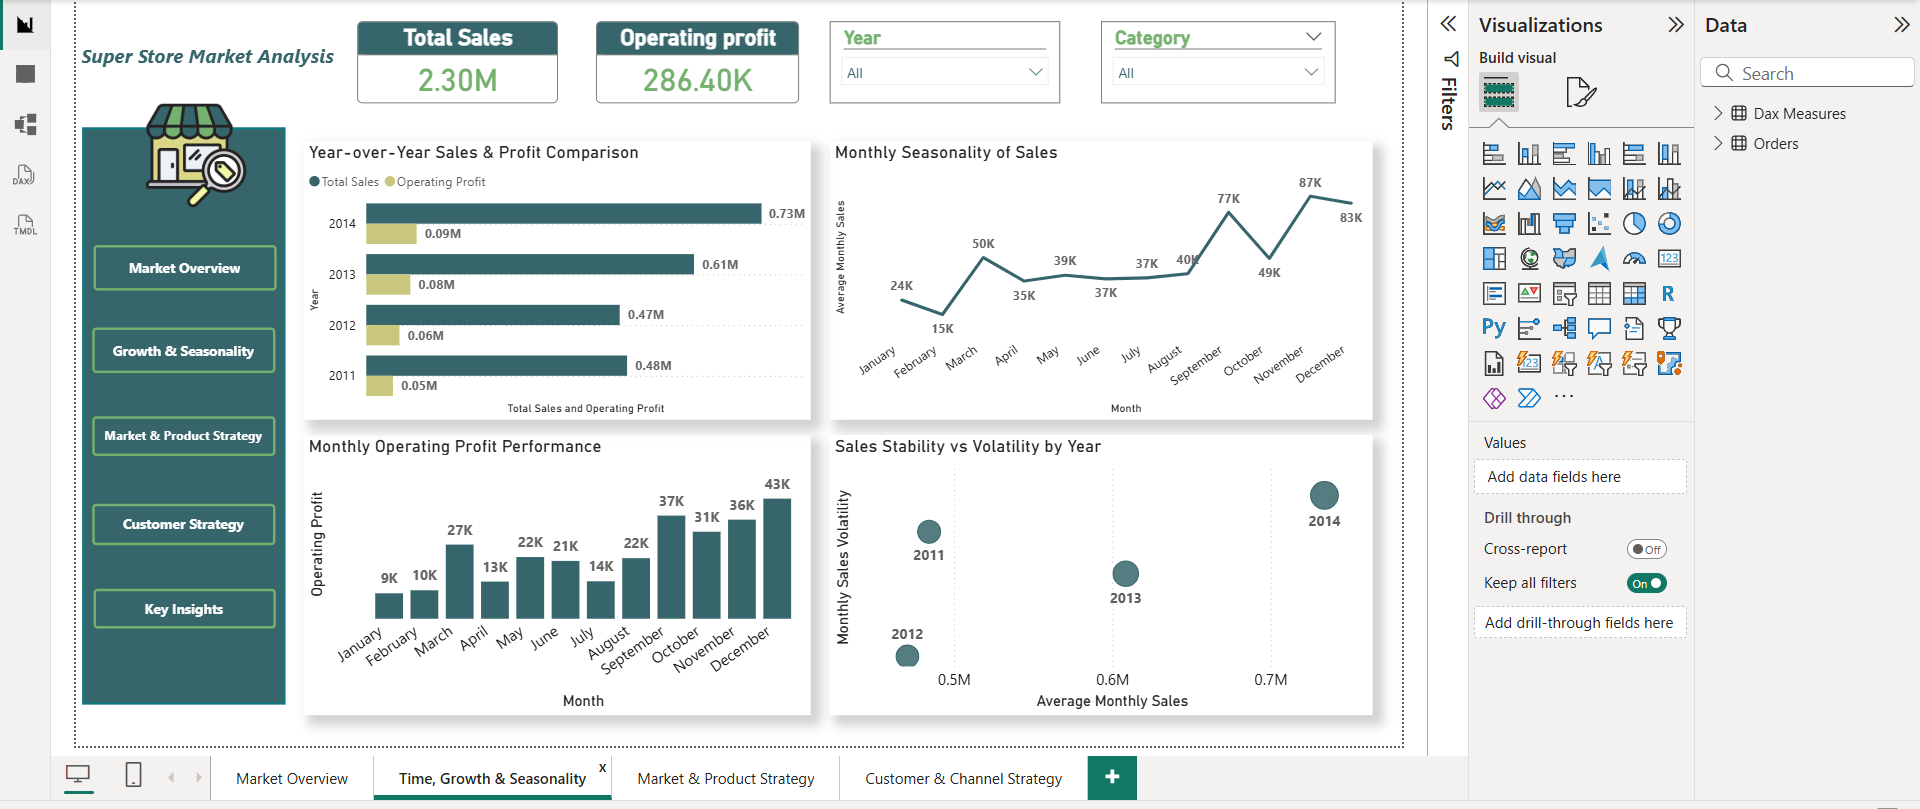

The page's visual inventory and layout, read from the dashboard file:
{"tool":"powerbi","page":{"name":"Time, Growth & Seasonality","canvas":[1280,720],"ordinal":1},"visuals":[{"type":"lineChart","title":"Monthly Seasonality of Sales","fields":{"Category":["Orders.Order Date.Variation.Date Hierarchy.Month"],"Y":["Dax Measures.Average Monthly Sales"]},"box":[727.3,135.8,524.2,269],"z":0},{"type":"clusteredColumnChart","title":"Monthly Operating Profit Performance","fields":{"Category":["Orders.Order Date.Variation.Date Hierarchy.Month"],"Y":["Dax Measures.Operating Profit"]},"box":[219.6,419.9,489.9,270.3],"z":1000},{"type":"clusteredBarChart","title":"Year-over-Year Sales & Profit Comparison","fields":{"Category":["Orders.Order Date.Variation.Date Hierarchy.Year"],"Y":["Dax Measures.Total Sales","Dax Measures.Operating Profit"]},"box":[219.6,135.8,489.9,269],"z":2000},{"type":"scatterChart","title":"Sales Stability vs Volatility by Year","fields":{"Category":["Orders.Order Date.Variation.Date Hierarchy.Year"],"Y":["Dax Measures.Monthly Sales Volatility"],"X":["Dax Measures.Average Monthly Sales"],"Size":["Dax Measures.Total Sales"]},"box":[727.3,419.9,524.2,270.3],"z":3000},{"type":"textbox","box":[0,35.7,256.6,49.4],"z":4000},{"type":"card","title":"Total Sales","fields":{"Values":["Dax Measures.Total Sales"]},"box":[271.7,20.6,193.5,79.6],"z":5000},{"type":"card","title":"Operating profit","fields":{"Values":["Dax Measures.Operating Profit"]},"box":[502.2,20.6,196.2,79.6],"z":6000},{"type":"slicer","fields":{"Values":["Orders.Order Date.Variation.Date Hierarchy.Year"]},"box":[727.3,20.6,222.3,79.6],"z":7000},{"type":"slicer","fields":{"Values":["Orders.Category"]},"box":[989.4,20.6,226.4,79.6],"z":8000},{"type":"shape","box":[5.5,123.5,196.2,557.1],"z":9000},{"type":"actionButton","box":[16.5,236,177,43.9],"z":10000},{"type":"image","box":[60.4,85.1,111.1,129],"z":11000},{"type":"actionButton","box":[15.1,315.6,177,43.9],"z":12000},{"type":"actionButton","box":[15.1,402.1,177,38.4],"z":13000},{"type":"actionButton","box":[15.1,485.8,177,39.8],"z":14000},{"type":"actionButton","title":"Key In","box":[16.5,568.1,175.6,38.4],"z":14001}]}

Visuals, with their boxes on the page's 1280x720 design canvas (x1, y1, x2, y2). These are canvas units, not pixel positions in the 1920x809 screenshot, which may show the page scaled, cropped or inside an application window:
"Monthly Seasonality of Sales" lineChart: (727,136,1252,405)
"Monthly Operating Profit Performance" clusteredColumnChart: (220,420,710,690)
"Year-over-Year Sales & Profit Comparison" clusteredBarChart: (220,136,710,405)
"Sales Stability vs Volatility by Year" scatterChart: (727,420,1252,690)
textbox: (0,36,257,85)
"Total Sales" card: (272,21,465,100)
"Operating profit" card: (502,21,698,100)
slicer - Orders.Order Date.Variation.Date Hierarchy.Year: (727,21,950,100)
slicer - Orders.Category: (989,21,1216,100)
shape: (6,124,202,681)
actionButton: (16,236,194,280)
image: (60,85,172,214)
actionButton: (15,316,192,360)
actionButton: (15,402,192,440)
actionButton: (15,486,192,526)
"Key In" actionButton: (16,568,192,606)
